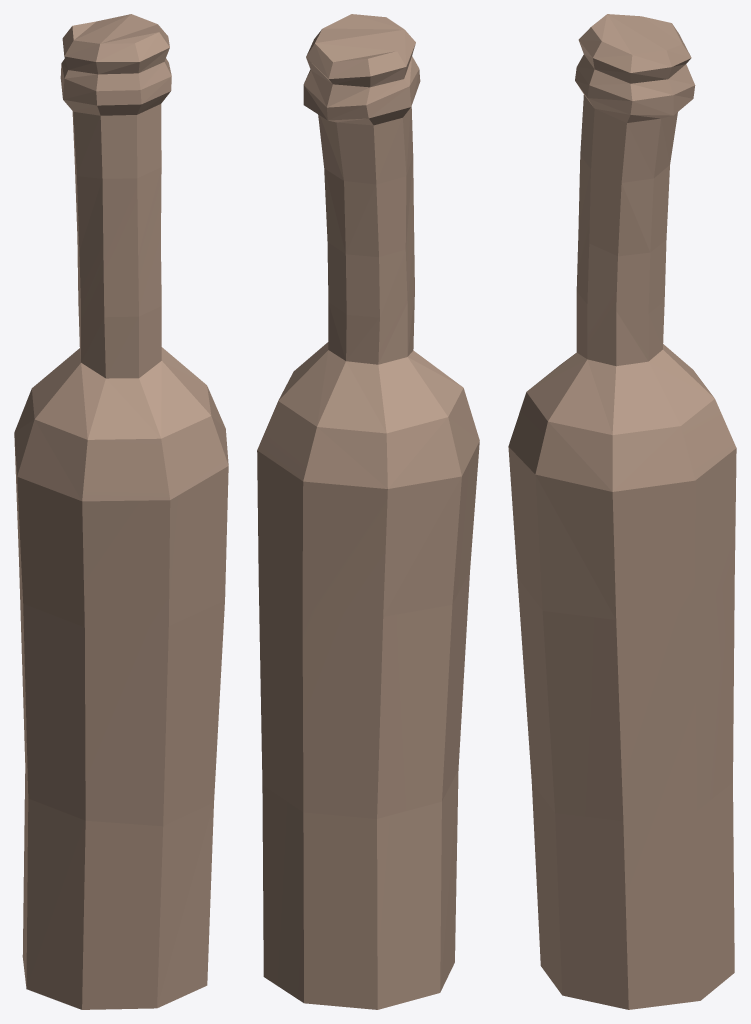
The model's file is Bottle01.fbx.
3 renders of one model, left to right at view 1: azimuth 30°, elevation 25°; view 2: azimuth 150°, elevation 25°; view 3: azimuth 270°, elevation 25°, orthographic.
Parts seen in each view (by area): view 1: beer_bottle.001_0; view 2: beer_bottle.001_0; view 3: beer_bottle.001_0.
Part boxes in pixels (x1,y1,x2,y2): beer_bottle.001_0: (14, 14, 228, 1009); beer_bottle.001_0: (257, 14, 479, 1009); beer_bottle.001_0: (508, 14, 736, 1009).
Size of the model in its own units: 0.2244 by 1.02 by 0.2243.
